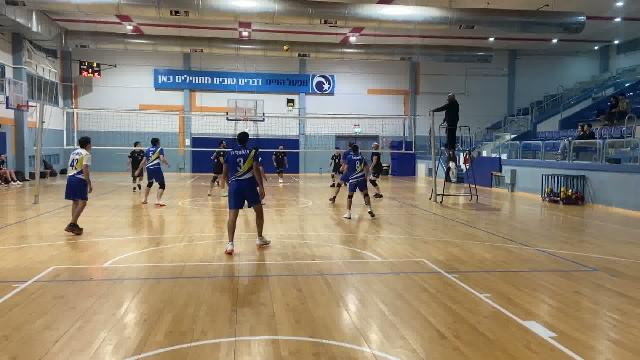ball: (283, 43, 293, 54)
